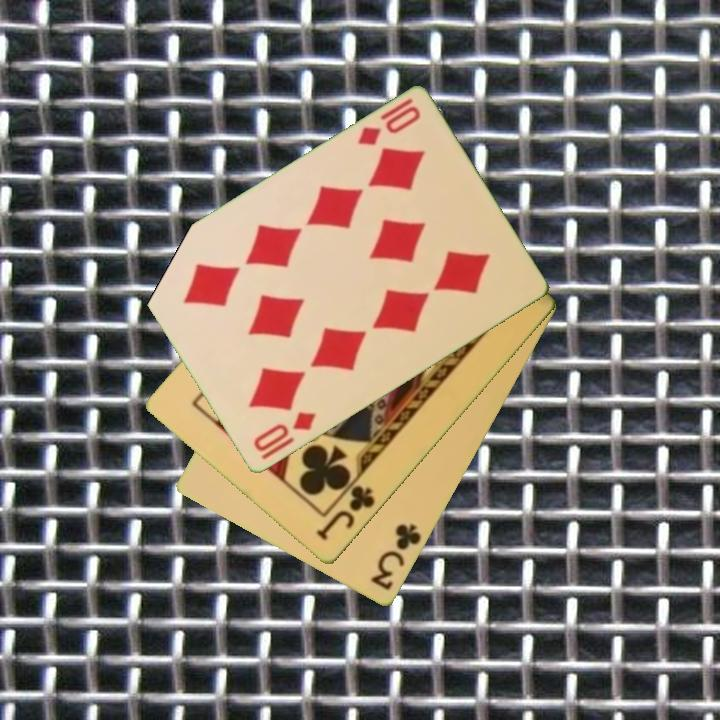10d: (249, 408, 320, 464), (354, 103, 424, 150)
3c: (367, 520, 425, 594)
Jc: (312, 482, 379, 545)
